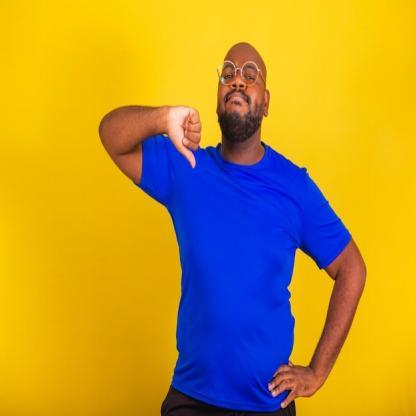thumb_down: (164, 100, 203, 172)
